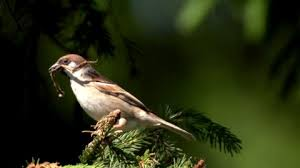hsparrow: (45, 47, 199, 145)
